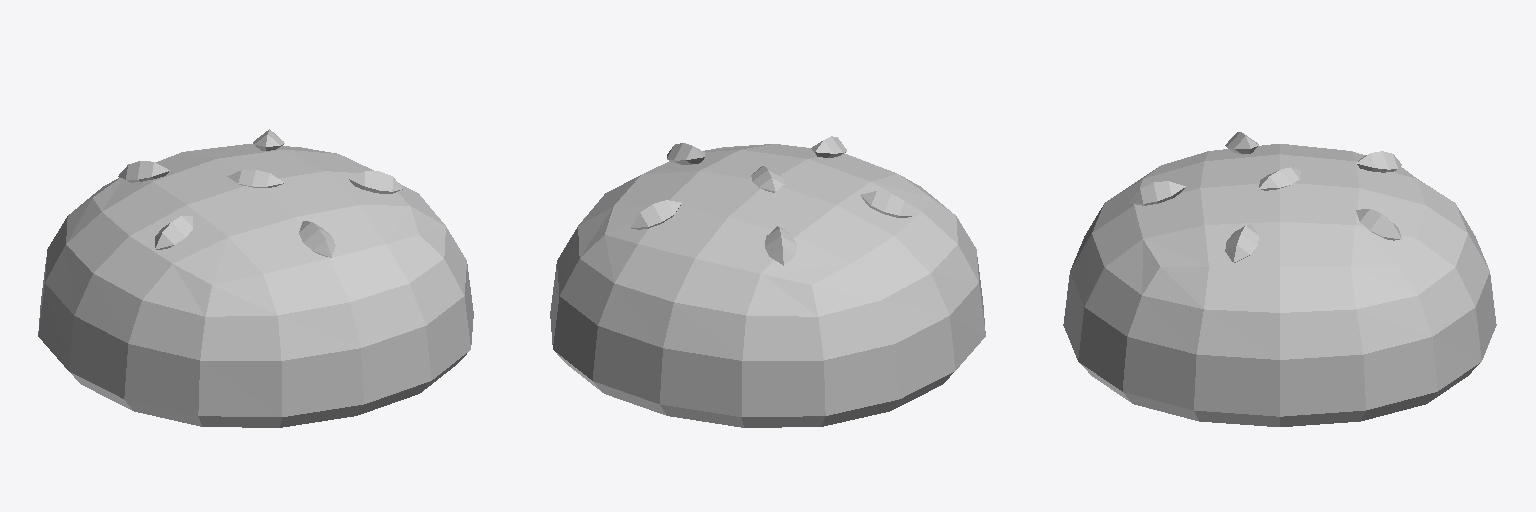
File: food_ingredient_bun_top.obj
3 views of the same model, side by side, from view 1: azimuth 30°, elevation 25°; view 2: azimuth 150°, elevation 25°; view 3: azimuth 270°, elevation 25° (orthographic).
Visible parts, largest first — view 1: food_ingredient_bun_top_Cube.012; view 2: food_ingredient_bun_top_Cube.012; view 3: food_ingredient_bun_top_Cube.012.
Part boxes in pixels (x1,y1,x2,y2): food_ingredient_bun_top_Cube.012: (38,129,473,427); food_ingredient_bun_top_Cube.012: (550,136,985,427); food_ingredient_bun_top_Cube.012: (1063,132,1496,426).
Bounding box in the file's own units: 0.7 × 0.3072 × 0.7.